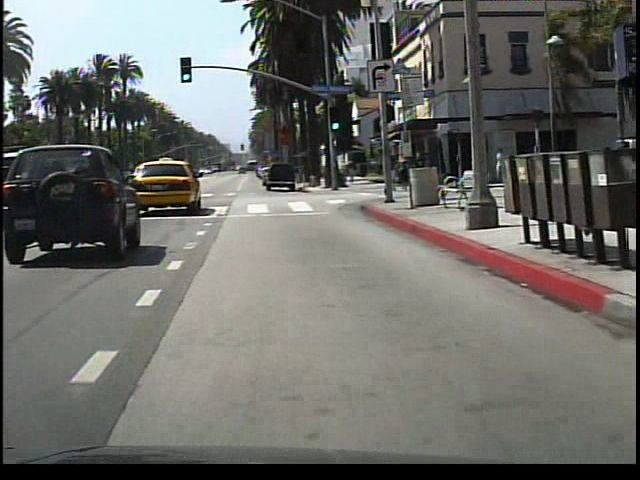person: (491, 142, 511, 188), (390, 149, 406, 195)
